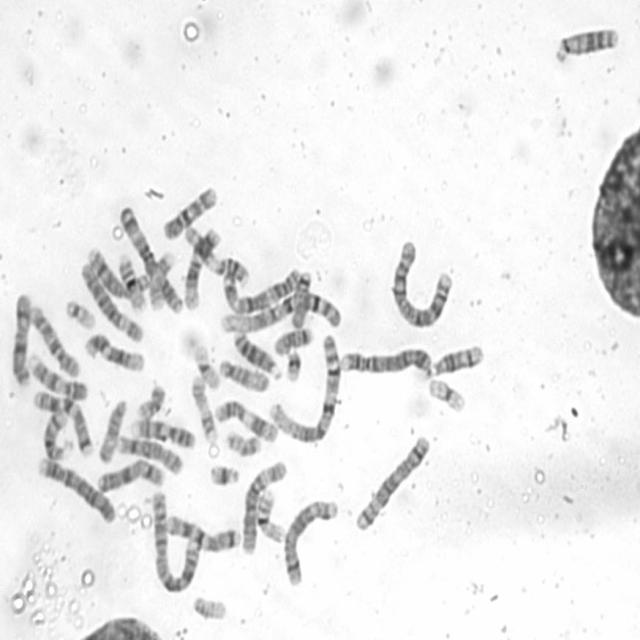A1: (266, 329, 342, 445), (218, 290, 342, 334)
A2: (388, 236, 456, 330), (150, 486, 202, 594)
A3: (116, 200, 184, 315), (219, 262, 302, 314)
B4: (34, 454, 117, 525), (336, 343, 434, 375)
B5: (352, 430, 432, 533), (281, 495, 339, 588)
C10: (28, 303, 82, 378), (160, 181, 218, 241)
C11: (180, 222, 252, 286), (212, 395, 282, 444)
C12: (182, 224, 222, 310), (82, 329, 145, 374)
C6: (76, 257, 146, 344), (239, 458, 288, 558)
C7: (29, 385, 95, 458), (162, 510, 242, 554)
C8: (84, 242, 152, 309), (116, 432, 184, 476)
C9: (25, 348, 90, 402), (126, 413, 196, 450)
D13: (551, 20, 621, 66), (230, 327, 284, 382)
D14: (422, 339, 486, 380), (40, 406, 70, 462)
D15: (96, 395, 128, 464), (217, 356, 270, 393)
E16: (252, 483, 288, 545), (115, 249, 149, 314)
E17: (189, 372, 218, 443), (146, 246, 176, 311)
E18: (288, 266, 314, 329), (272, 323, 314, 356)
F19: (424, 372, 468, 416), (192, 341, 222, 390)
F20: (136, 380, 167, 420), (222, 427, 262, 458)
G21: (206, 462, 241, 488), (283, 345, 304, 384)
G22: (64, 296, 96, 331), (190, 593, 228, 622)
X: (94, 456, 166, 494), (9, 288, 33, 388)
